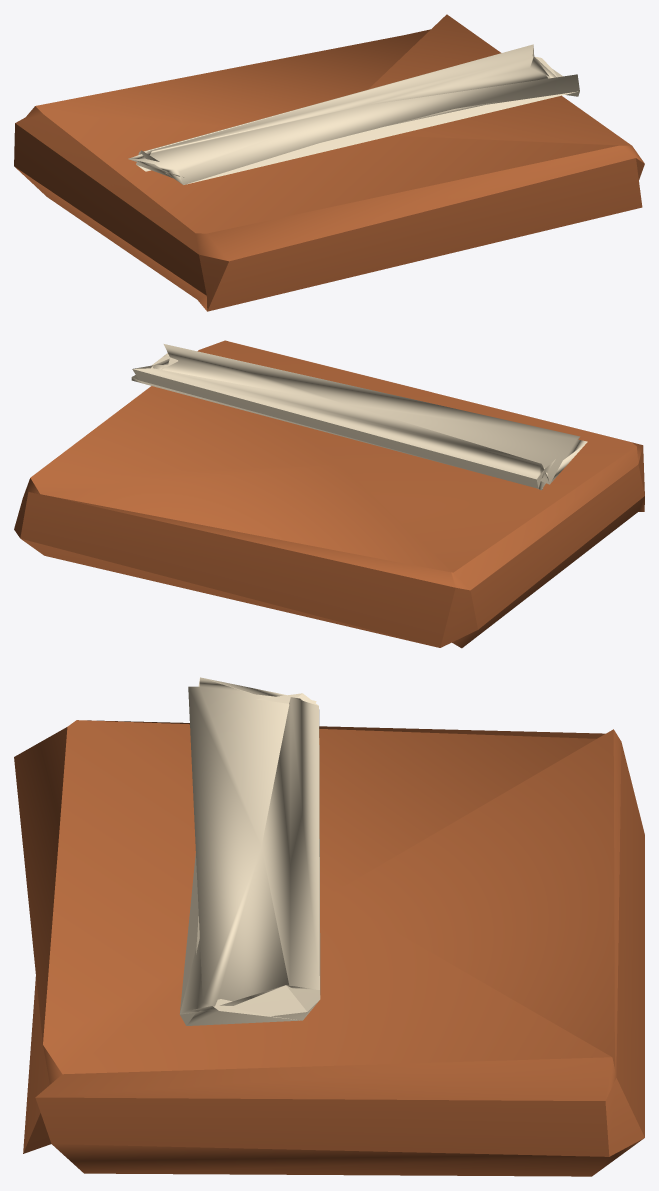
File: find_pottery_shard.glb
3 renders of one model, top to bottom at view 1: azimuth 30°, elevation 25°; view 2: azimuth 150°, elevation 25°; view 3: azimuth 270°, elevation 25°, orthographic. The views are drawn at different scales.
Parts seen in each view (by area): view 1: find_pottery_shard; view 2: find_pottery_shard; view 3: find_pottery_shard.
Boxes of the visible parts, x1,y1,x2,y2 form: find_pottery_shard: (14,14,644,311); find_pottery_shard: (14,340,644,648); find_pottery_shard: (14,677,644,1176).
Bounding box in the file's own units: 0.0614 × 0.0149 × 0.0473.
